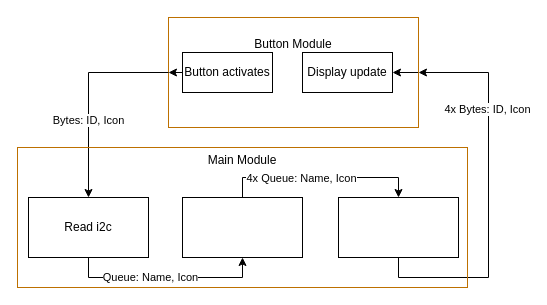
Some shapes in this 547 by 305 pixel diagram are drawn without their labels. Each missing label, with the centre of its shape:
"UI" belongs at (242,227).
"Write i2c" belongs at (398,227).
